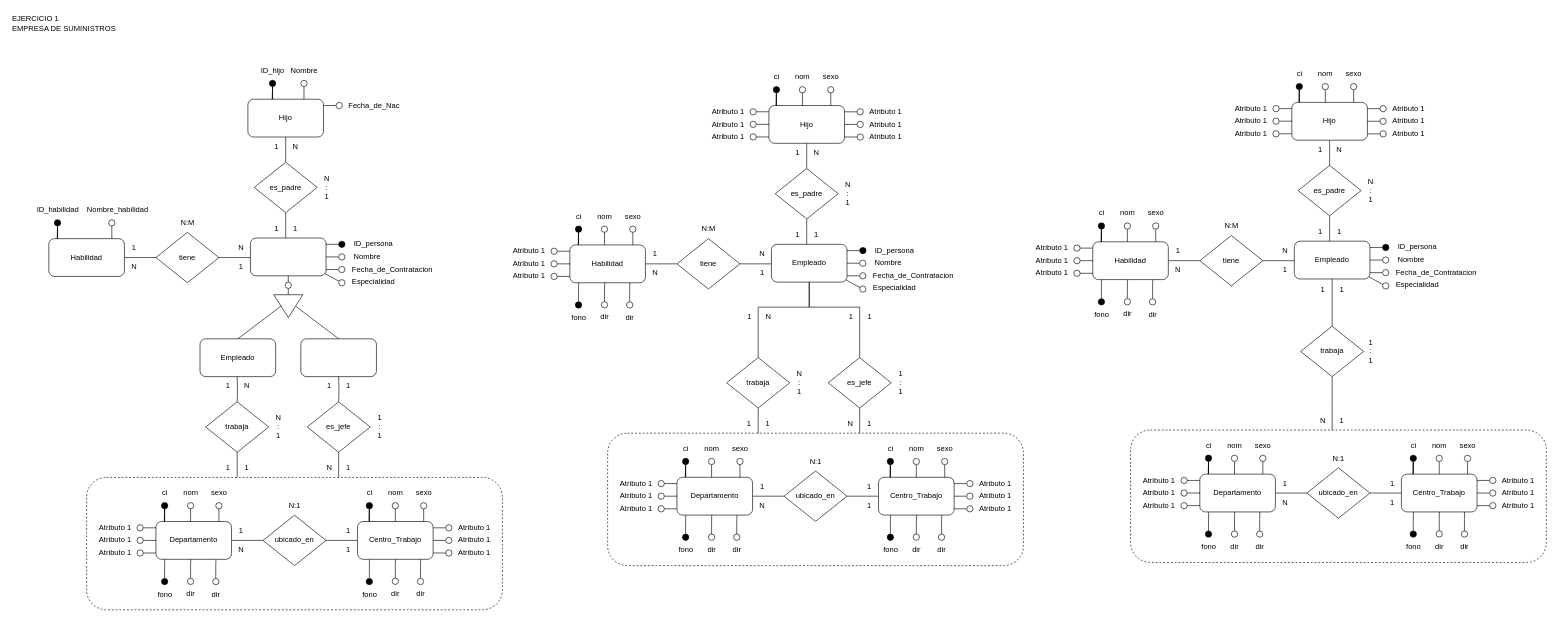
Some shapes in this 1557 by 621 pixel diagram are drawn without their labels. Here are the shapes that lost their labels. From the top down, the box of each, then its label:
(250, 237, 326, 276): Persona
(300, 338, 376, 377): Jefe
